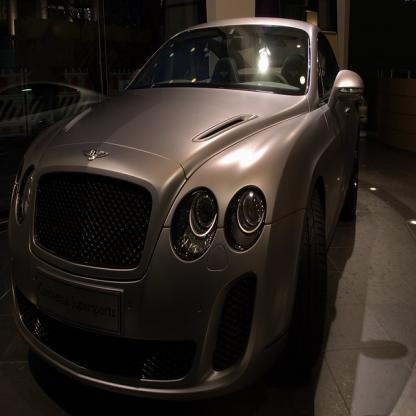Car: (8, 17, 365, 401), (0, 82, 103, 126)
